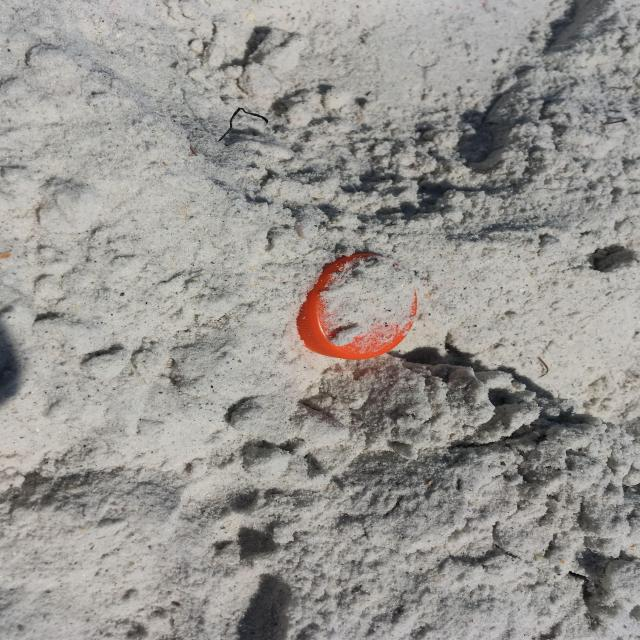litter: (299, 250, 419, 360)
